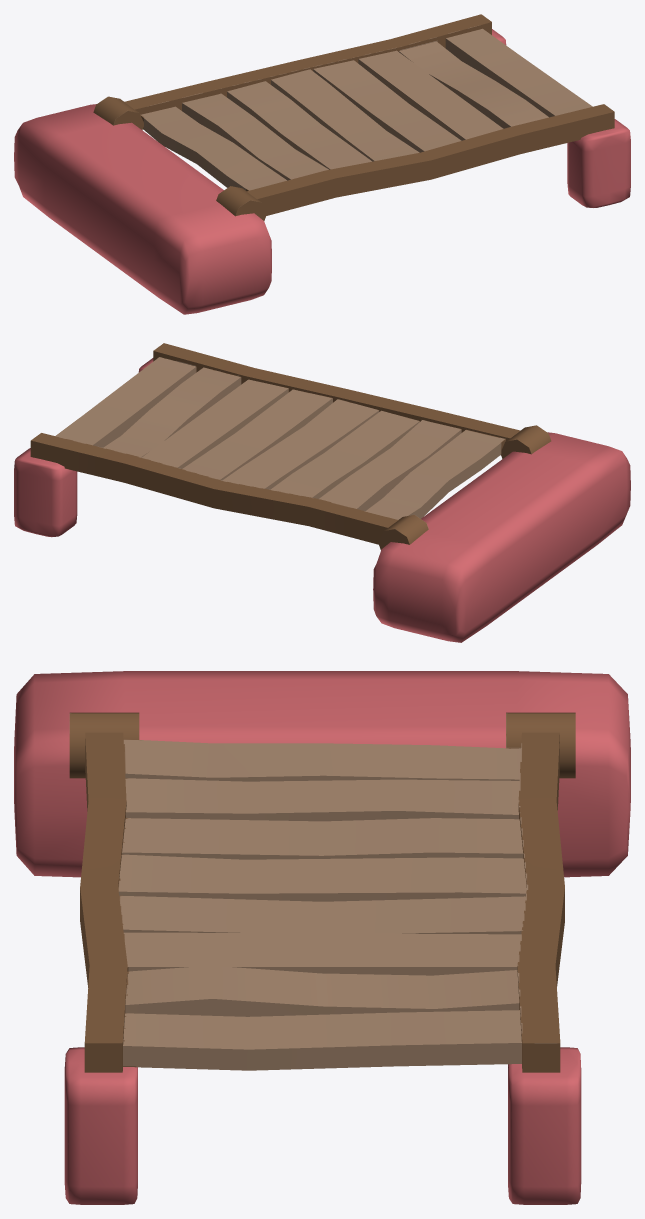
The model's file is мост.fbx.
3 views of the same model, one above another, from view 1: azimuth 30°, elevation 25°; view 2: azimuth 150°, elevation 25°; view 3: azimuth 270°, elevation 25° (orthographic). The views are drawn at different scales.
Visible parts, largest first — view 1: оригинал, камень; view 2: оригинал, камень; view 3: оригинал, камень.
Boxes of the visible parts, box(x1,y1,x2,y2) form: оригинал: box(93, 14, 614, 220); камень: box(14, 29, 630, 314); оригинал: box(30, 343, 551, 549); камень: box(14, 358, 630, 642); оригинал: box(69, 712, 575, 1072); камень: box(14, 671, 630, 1204).
Size of the model in its own units: 426 by 81.03 by 276.
2 materials, 1 textured.
